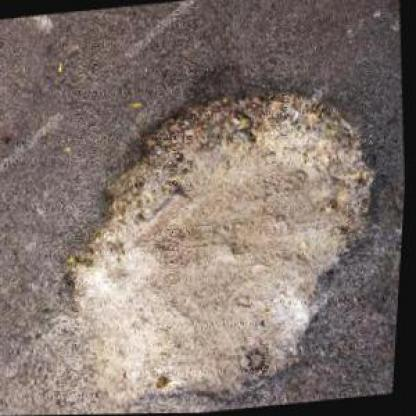pothole: (25, 48, 406, 414)
